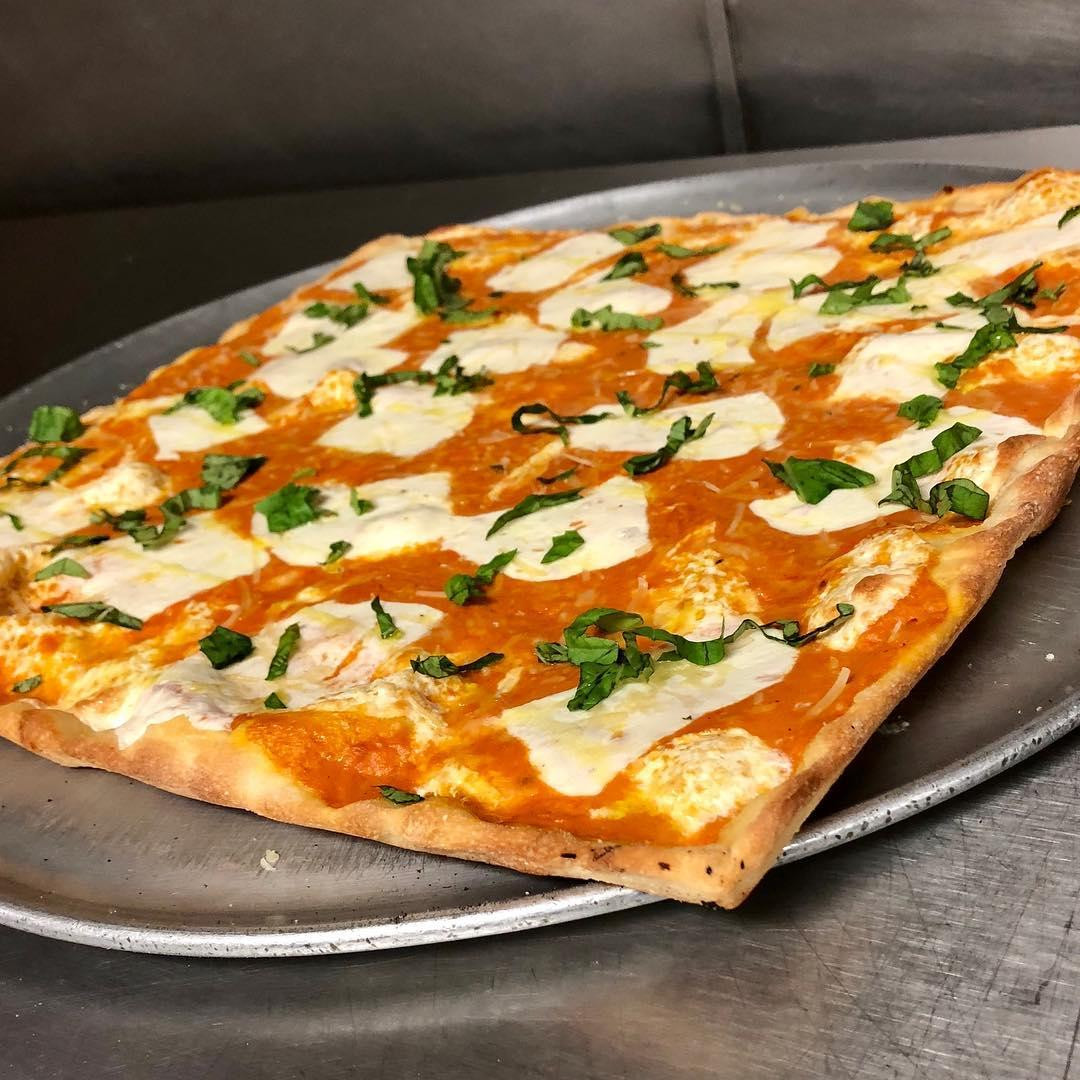Basil: (533, 598, 858, 716), (44, 451, 269, 560), (931, 259, 1066, 389), (874, 418, 996, 529), (400, 233, 505, 331), (351, 353, 503, 416), (5, 401, 96, 496), (616, 409, 720, 481), (615, 352, 719, 422), (782, 270, 929, 318), (757, 451, 882, 507), (507, 396, 620, 456), (153, 373, 273, 427), (480, 484, 587, 543), (246, 467, 329, 538), (441, 544, 520, 611), (866, 223, 955, 280), (35, 595, 150, 637), (302, 281, 390, 331), (565, 296, 672, 335), (406, 644, 508, 684), (193, 617, 257, 675), (264, 617, 306, 682), (657, 269, 742, 301), (890, 392, 950, 435), (534, 524, 587, 569), (366, 776, 429, 813), (834, 199, 897, 236), (591, 250, 652, 287), (27, 554, 96, 584), (364, 591, 402, 645), (654, 237, 734, 262), (286, 329, 339, 360), (601, 222, 668, 246), (339, 480, 379, 517), (320, 534, 357, 567), (530, 462, 585, 483), (805, 355, 841, 387), (259, 683, 288, 716), (0, 503, 27, 536), (233, 348, 266, 371), (8, 669, 44, 690), (630, 335, 671, 352)
Pizza: (0, 160, 1080, 907)
